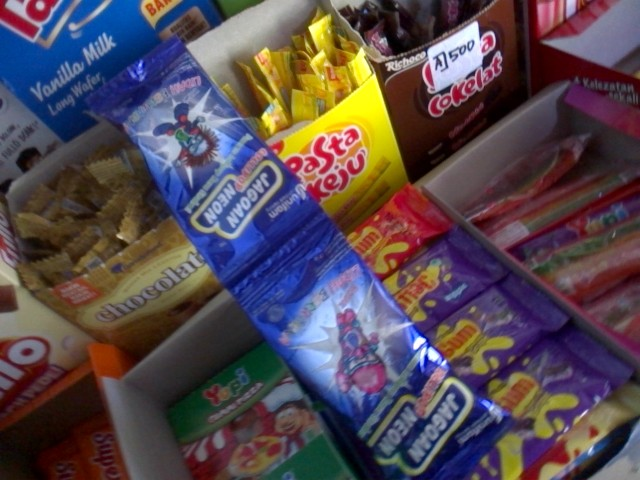jagoan neon: (236, 217, 511, 478), (84, 34, 331, 301)
